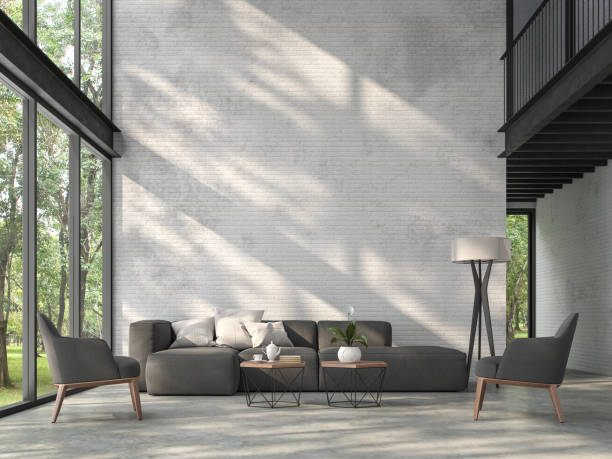chair: (34, 310, 144, 424), (472, 310, 579, 424)
floor lamp: (448, 232, 514, 361)
small plant: (328, 319, 371, 364)
sofa: (126, 306, 470, 395)
table: (237, 353, 307, 410), (318, 358, 390, 411)
